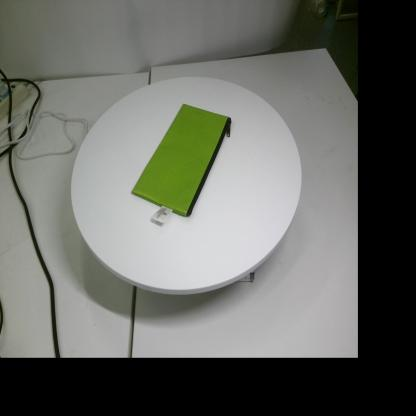Stationery: (131, 104, 232, 224)
